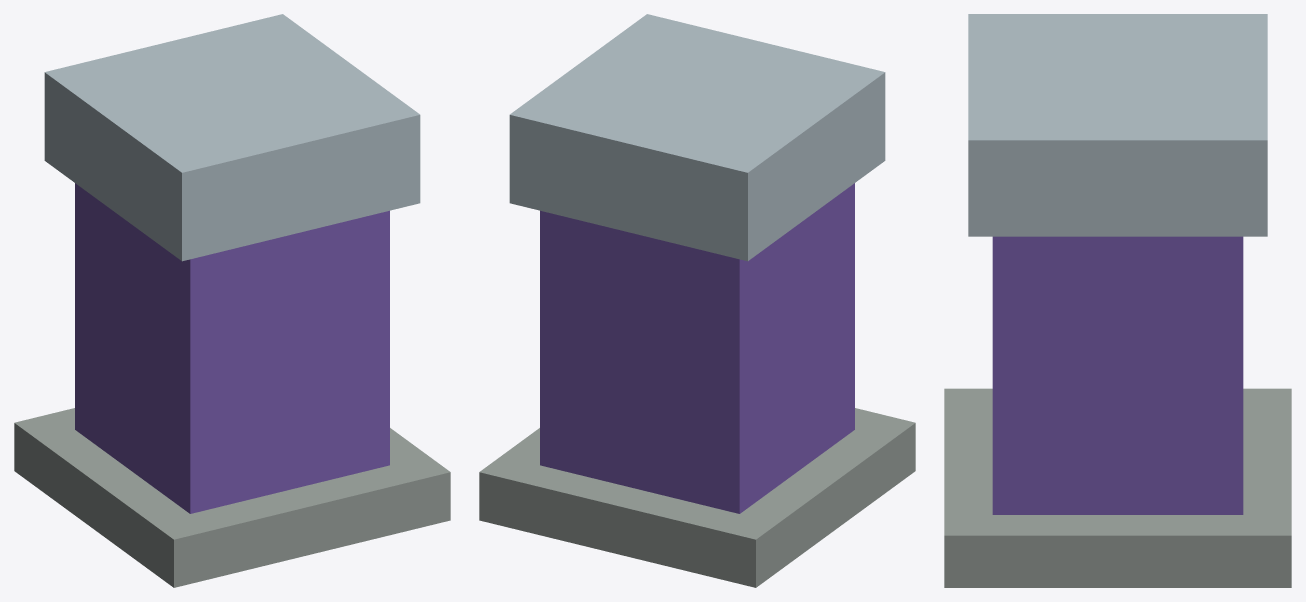
The picture shows the model from 3 angles, left to right: view 1: azimuth 30°, elevation 25°; view 2: azimuth 150°, elevation 25°; view 3: azimuth 270°, elevation 25°; orthographic projection. The views are drawn at different scales.
Visible parts, largest first — view 1: block-bollard, bollard-cap, bollard-base; view 2: block-bollard, bollard-cap, bollard-base; view 3: block-bollard, bollard-cap, bollard-base.
Boxes of the visible parts, x1,y1,x2,y2 form: block-bollard: (75, 183, 389, 513); bollard-cap: (44, 14, 420, 261); bollard-base: (14, 408, 450, 587); block-bollard: (540, 183, 854, 513); bollard-cap: (509, 14, 885, 261); bollard-base: (479, 408, 915, 587); block-bollard: (992, 236, 1243, 514); bollard-cap: (968, 14, 1267, 236); bollard-base: (944, 388, 1291, 587).
Size of the model in its own units: 0.72 by 1 by 0.72.
